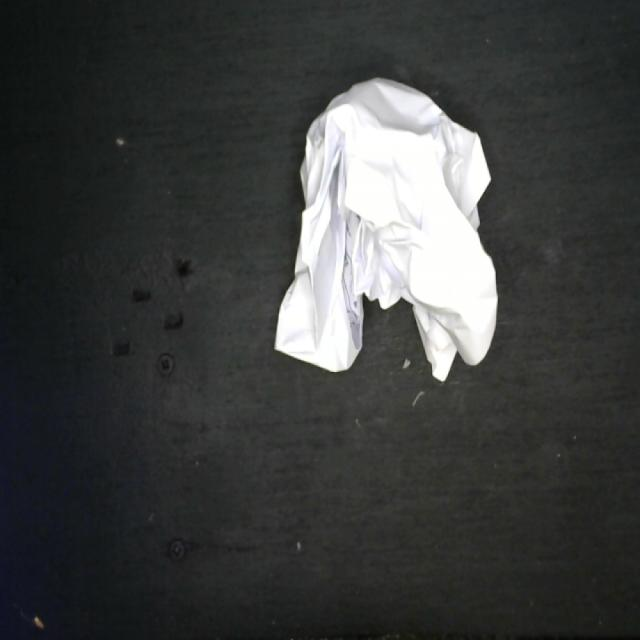biodegradable: (271, 72, 502, 387)
